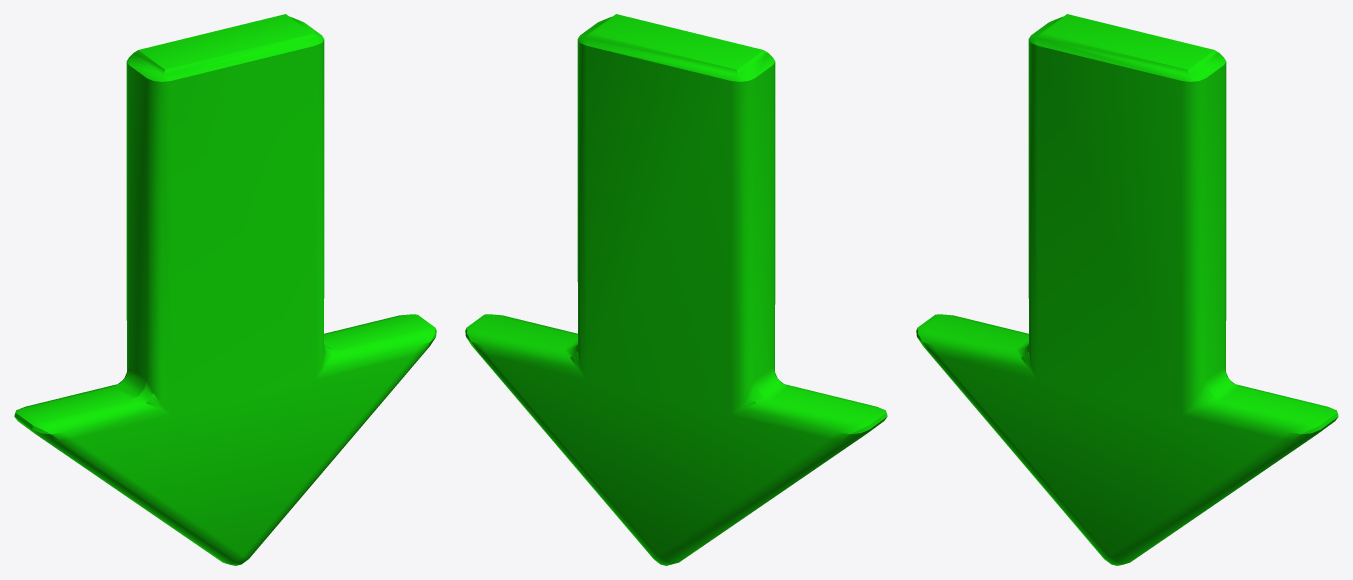
Rendered from StrelicaStatic.fbx.
3 views of the same model, side by side, from view 1: azimuth 30°, elevation 25°; view 2: azimuth 150°, elevation 25°; view 3: azimuth 330°, elevation 25° (orthographic).
Visible parts, largest first — view 1: Vert; view 2: Vert; view 3: Vert.
Part boxes in pixels (x1,y1,x2,y2): Vert: [14, 14, 436, 565]; Vert: [465, 14, 887, 565]; Vert: [916, 14, 1338, 565].
Bounding box in the file's own units: 58.27 × 71.11 × 8.9.
